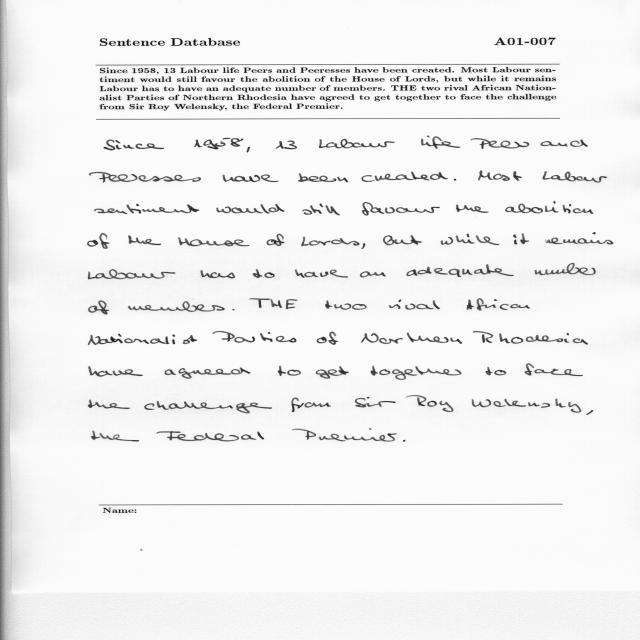word: (473, 331, 588, 345), (144, 401, 272, 413), (472, 399, 581, 413), (407, 264, 514, 277), (292, 429, 397, 442), (371, 366, 462, 380), (361, 332, 462, 344), (89, 334, 198, 345), (157, 431, 264, 442), (506, 201, 594, 214), (89, 172, 201, 182), (128, 301, 225, 312), (95, 204, 200, 214), (165, 367, 251, 379), (362, 202, 440, 215), (213, 331, 297, 343), (361, 172, 448, 182), (89, 269, 176, 279), (467, 298, 530, 311), (546, 233, 614, 245), (406, 395, 453, 412), (543, 171, 607, 183), (535, 263, 596, 275), (525, 364, 583, 376), (319, 139, 395, 148), (217, 204, 285, 214), (104, 140, 164, 151), (178, 238, 250, 247), (471, 138, 529, 149), (441, 234, 499, 245), (89, 366, 143, 377), (292, 398, 331, 413), (389, 299, 440, 310), (194, 138, 243, 149), (249, 298, 298, 309), (92, 431, 140, 442), (302, 237, 360, 246), (421, 136, 460, 149), (295, 269, 348, 278), (302, 204, 340, 216), (298, 173, 348, 182), (478, 171, 522, 181), (316, 366, 349, 379), (325, 300, 367, 310), (88, 399, 130, 409), (355, 397, 396, 407), (223, 175, 279, 182), (383, 235, 422, 245), (541, 139, 588, 147), (88, 233, 110, 249), (128, 235, 161, 245), (201, 270, 235, 279), (89, 300, 109, 315), (317, 331, 338, 345), (456, 204, 488, 213), (278, 366, 301, 376), (267, 234, 285, 246), (253, 269, 275, 278), (276, 141, 297, 150), (513, 234, 529, 245), (486, 367, 506, 375), (360, 272, 386, 278), (587, 410, 594, 415), (246, 147, 250, 153), (362, 243, 366, 249), (403, 440, 406, 442), (454, 179, 456, 181), (233, 309, 235, 311)
